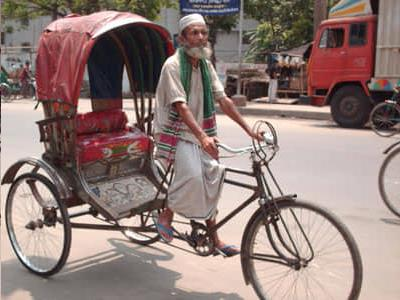Rickshaw: (12, 8, 360, 253)
